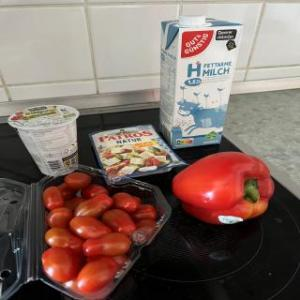bell_pepper: (176, 148, 274, 225)
tomato: (30, 164, 184, 300)
